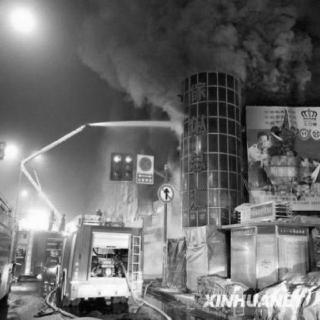other: (3, 263, 33, 294)
